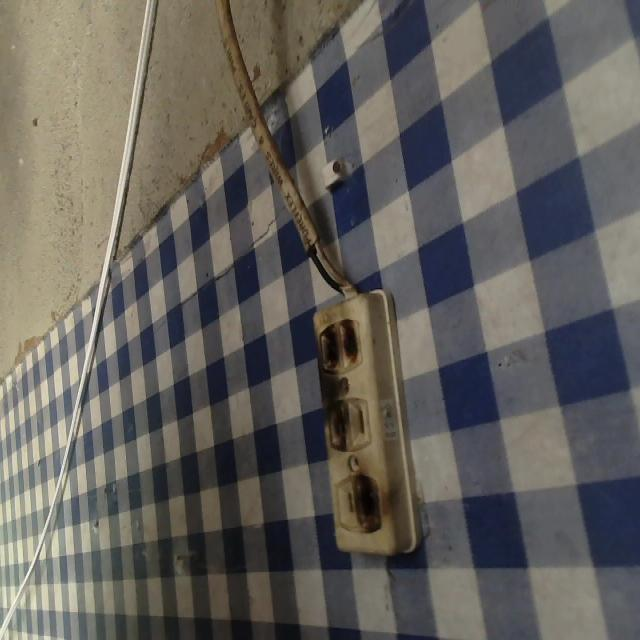-: (314, 314, 362, 366), (352, 471, 385, 536), (321, 400, 352, 451)
